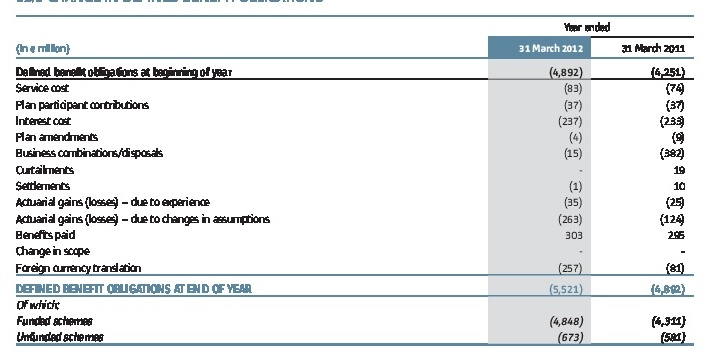table: (0, 0, 710, 363)
